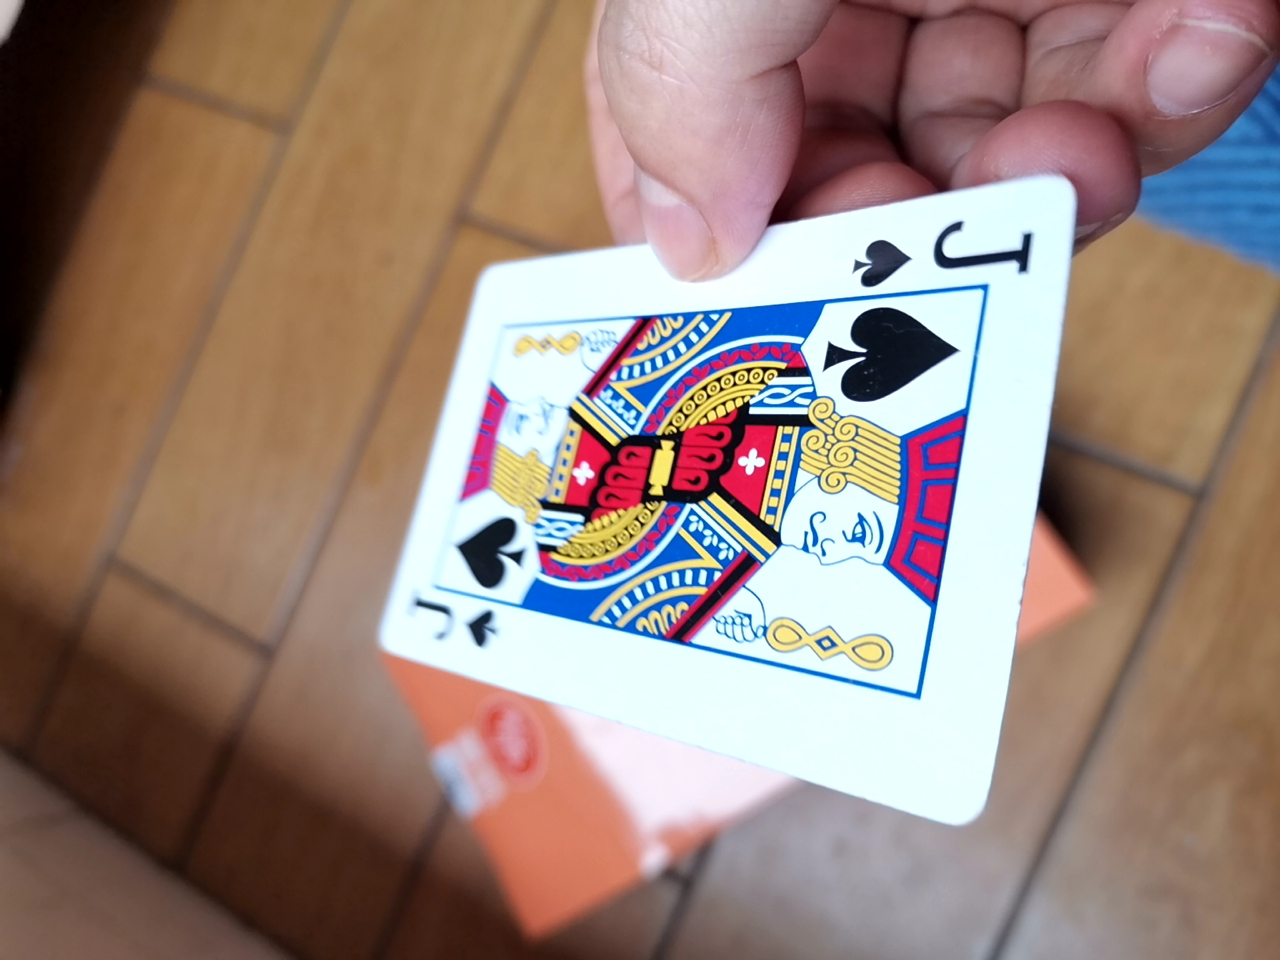ht j: (356, 172, 1076, 815)
